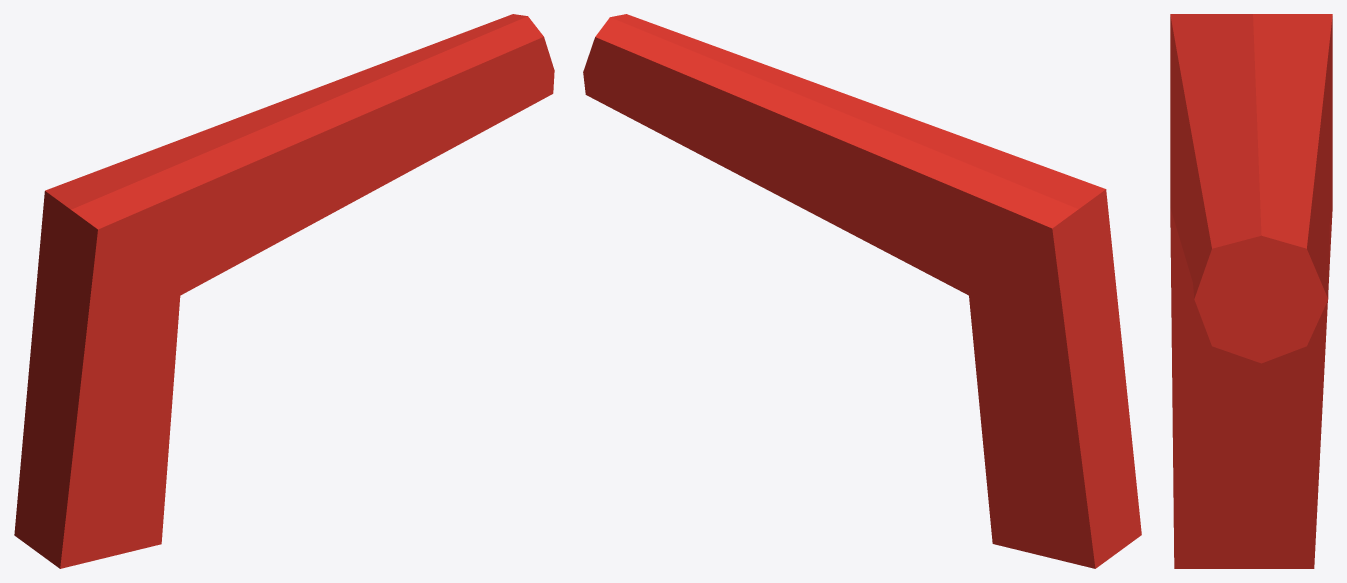
File: gun.glb
3 renders of one model, left to right at view 1: azimuth 30°, elevation 25°; view 2: azimuth 150°, elevation 25°; view 3: azimuth 270°, elevation 25°, orthographic. The views are drawn at different scales.
Parts seen in each view (by area): view 1: Cube; view 2: Cube; view 3: Cube.
Part boxes in pixels (x1,y1,x2,y2): Cube: [14, 14, 554, 568]; Cube: [583, 14, 1141, 568]; Cube: [1170, 14, 1332, 568].
Size of the model in its own units: 3.74 by 2.91 by 0.6815.
